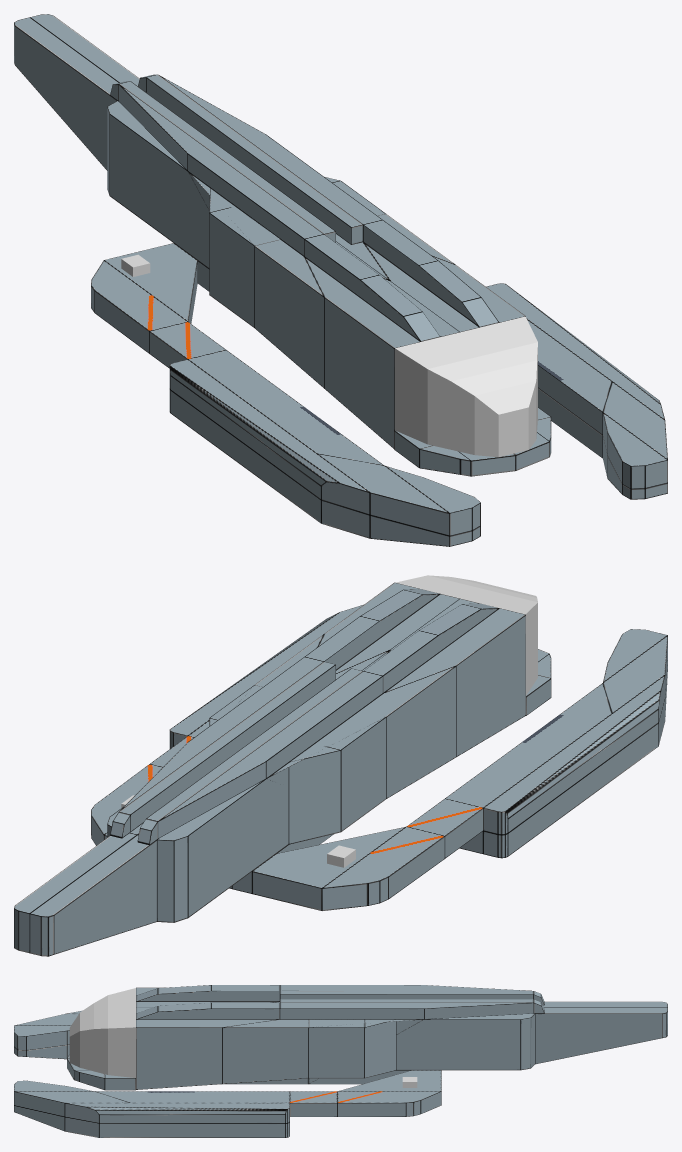
File: Fork.fbx
3 renders of one model, top to bottom at view 1: azimuth 30°, elevation 25°; view 2: azimuth 150°, elevation 25°; view 3: azimuth 270°, elevation 25°, orthographic. The views are drawn at different scales.
Parts seen in each view (by area): view 1: Hull, Cockpit; view 2: Hull, Cockpit; view 3: Hull, Cockpit.
Part boxes in pixels (box(x1,y1,x2,y2)): Hull: box(14, 14, 667, 546); Cockpit: box(395, 316, 537, 457); Hull: box(14, 582, 667, 956); Cockpit: box(396, 575, 537, 695); Hull: box(14, 985, 667, 1137); Cockpit: box(69, 988, 135, 1077).
Bounding box in the file's own units: 860 × 355 × 2334.
